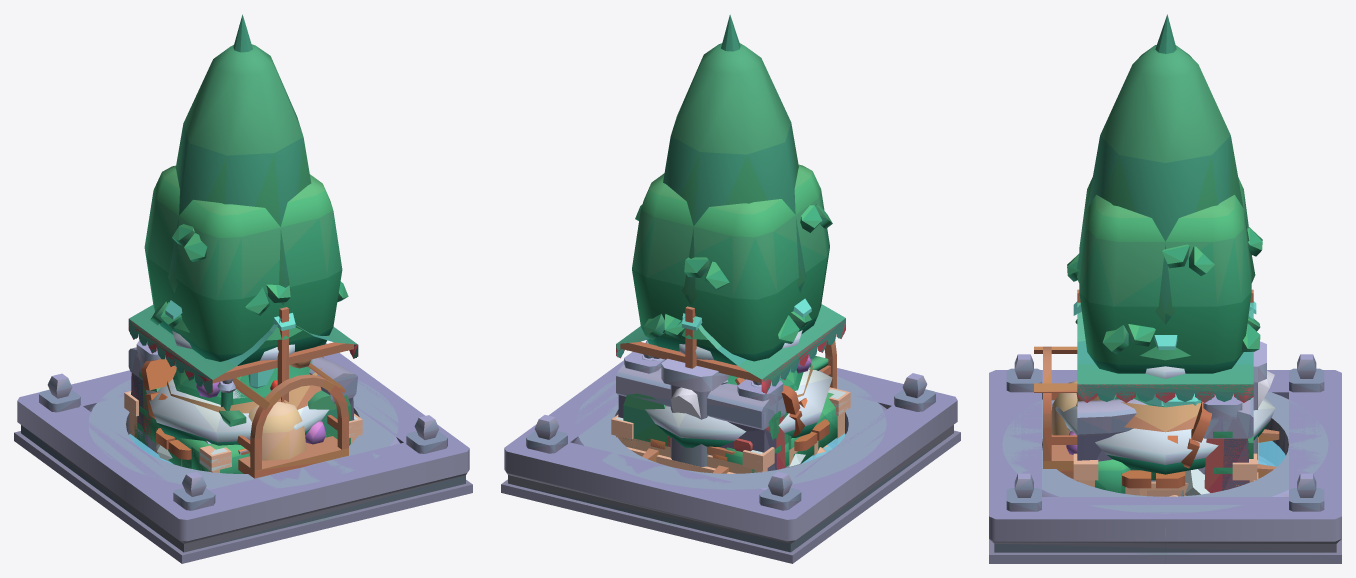
File: kenney-outdoor.glb
3 renders of one model, left to right at view 1: azimuth 30°, elevation 25°; view 2: azimuth 150°, elevation 25°; view 3: azimuth 270°, elevation 25°, orthographic. The views are drawn at different scales.
Visible parts, largest first — view 1: town-fountain-square-detail, toy-tree, town-tree-high-round, town-fountain-round-detail, town-stall-green, town-cart-high, holiday-tree-decorated-snow, holiday-tree-decorated, town-cart, holiday-bench, yard-stone-wall-curve, toy-hedge-corner (+7 smaller); view 2: town-fountain-square-detail, toy-tree, town-tree-high-round, town-fountain-round-detail, town-stall-green, holiday-tree-decorated-snow, yard-brick-wall, yard-stone-wall-column, yard-stone-wall, bridge_woodRound, town-hedge-large, yard-iron-fence-border-gate (+9 smaller); view 3: town-fountain-square-detail, toy-tree, town-tree-high-round, town-fountain-round-detail, town-stall-green, holiday-tree-decorated-snow, holiday-tree-decorated, yard-stone-wall-curve, town-cart-high, yard-brick-wall, yard-stone-wall, holiday-bench (+10 smaller).
Boxes of the visible parts, x1,y1,x2,y2 form: town-fountain-square-detail: [14, 343, 472, 563]; toy-tree: [144, 165, 348, 365]; town-tree-high-round: [168, 44, 311, 305]; town-fountain-round-detail: [87, 379, 399, 525]; town-stall-green: [128, 304, 358, 454]; town-cart-high: [232, 363, 348, 470]; holiday-tree-decorated-snow: [146, 330, 328, 442]; holiday-tree-decorated: [157, 356, 325, 445]; town-cart: [205, 415, 348, 478]; holiday-bench: [141, 357, 191, 459]; yard-stone-wall-curve: [130, 349, 357, 421]; toy-hedge-corner: [140, 414, 244, 473]; town-fountain-square-detail: [501, 360, 960, 563]; toy-tree: [632, 164, 832, 365]; town-tree-high-round: [663, 43, 806, 304]; town-fountain-round-detail: [574, 370, 891, 526]; town-stall-green: [616, 304, 845, 456]; holiday-tree-decorated-snow: [645, 330, 832, 440]; yard-brick-wall: [616, 368, 786, 469]; yard-stone-wall-column: [661, 358, 728, 466]; yard-stone-wall: [616, 364, 778, 471]; bridge_woodRound: [611, 387, 850, 473]; town-hedge-large: [623, 393, 666, 446]; yard-iron-fence-border-gate: [624, 352, 783, 468]; town-fountain-square-detail: [989, 354, 1341, 563]; toy-tree: [1067, 177, 1262, 373]; town-tree-high-round: [1077, 45, 1255, 324]; town-fountain-round-detail: [1002, 392, 1328, 563]; town-stall-green: [1077, 289, 1253, 401]; holiday-tree-decorated-snow: [1055, 366, 1275, 464]; holiday-tree-decorated: [1066, 393, 1269, 474]; yard-stone-wall-curve: [1077, 398, 1147, 461]; town-cart-high: [1034, 346, 1077, 435]; yard-brick-wall: [1203, 412, 1253, 492]; yard-stone-wall: [1218, 397, 1253, 490]; holiday-bench: [1122, 401, 1211, 488].
Size of the model in its own units: 2 by 3.02 by 2.
